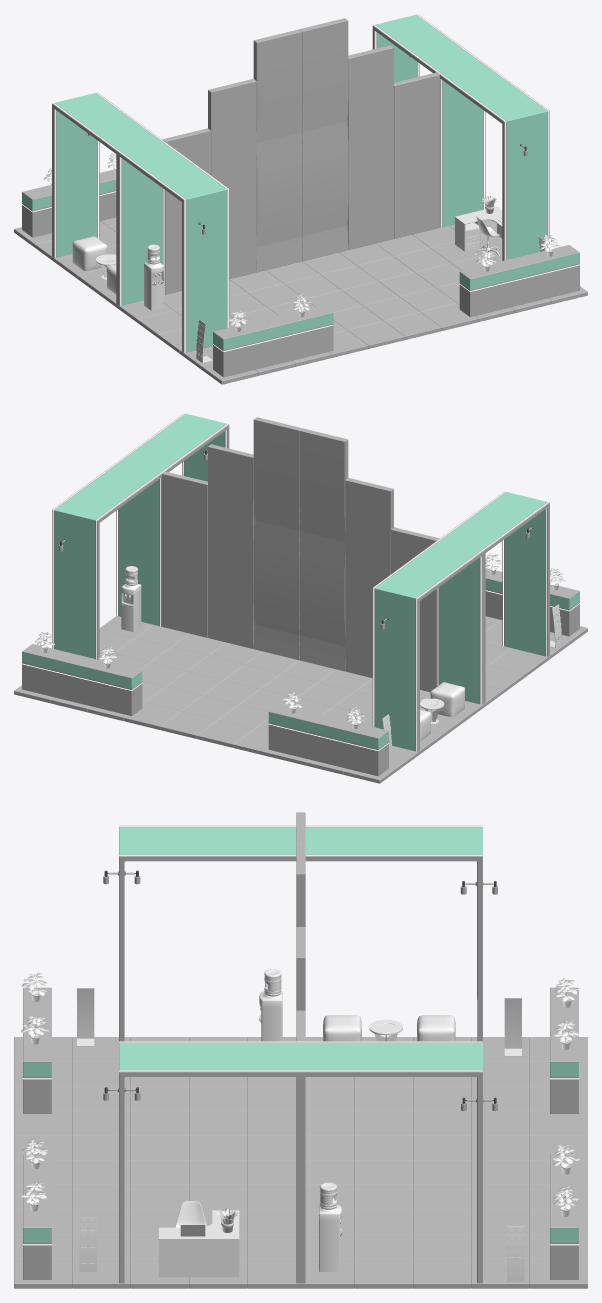
The model's file is goldStall.gltf.
3 views of the same model, one above another, from view 1: azimuth 30°, elevation 25°; view 2: azimuth 150°, elevation 25°; view 3: azimuth 270°, elevation 25° (orthographic). The views are drawn at different scales.
Parts seen in each view (by area): view 1: stand_9__1_, stand_9, OfficeTable, pouf_2, Cooler_reception__1_; view 2: stand_9, stand_9__1_, pouf_2__1_, Cooler_reception__1__1; view 3: stand_9__1_, stand_9, OfficeTable, rack__1_, rack_1, pouf_2, pouf_2__1_, rack__1__1, rack, Cooler_reception__1__1, cooler, cooler_1 (+1 smaller).
Part boxes in pixels (x1=…): stand_9__1_: x1=14, y1=14, x2=485, y2=309; stand_9: x1=116, y1=18, x2=587, y2=384; OfficeTable: x1=455, y1=206, x2=502, y2=251; pouf_2: x1=72, y1=236, x2=107, y2=270; Cooler_reception__1_: x1=144, y1=281, x2=163, y2=310; stand_9: x1=116, y1=413, x2=587, y2=705; stand_9__1_: x1=14, y1=417, x2=485, y2=783; pouf_2__1_: x1=430, y1=682, x2=464, y2=716; Cooler_reception__1__1: x1=121, y1=602, x2=141, y2=632; stand_9__1_: x1=296, y1=812, x2=587, y2=1288; stand_9: x1=14, y1=812, x2=305, y2=1288; OfficeTable: x1=158, y1=1210, x2=239, y2=1277; rack__1_: x1=77, y1=988, x2=94, y2=1046; rack_1: x1=504, y1=998, x2=521, y2=1056; pouf_2: x1=417, y1=1015, x2=455, y2=1041; pouf_2__1_: x1=323, y1=1015, x2=361, y2=1041; rack__1__1: x1=507, y1=1226, x2=524, y2=1281; rack: x1=79, y1=1217, x2=96, y2=1271; Cooler_reception__1__1: x1=319, y1=1237, x2=339, y2=1271; cooler: x1=259, y1=991, x2=282, y2=1024; cooler_1: x1=319, y1=1205, x2=342, y2=1237.
Bounding box in the file's own units: 10 × 6.1 × 9.84.
